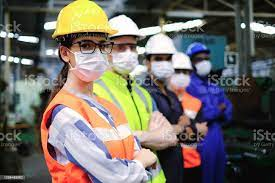helmet: (47, 2, 114, 40), (104, 9, 145, 46), (144, 29, 179, 62), (186, 40, 210, 56)
mask: (67, 50, 112, 82), (107, 51, 144, 77), (146, 61, 174, 84), (191, 63, 220, 78)
